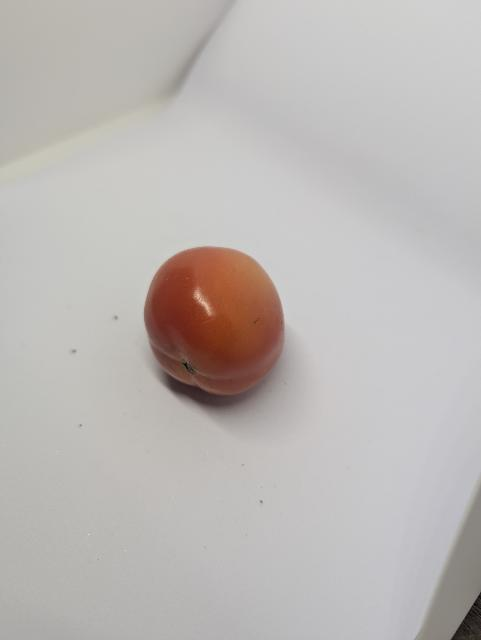turning: (143, 243, 287, 401)
